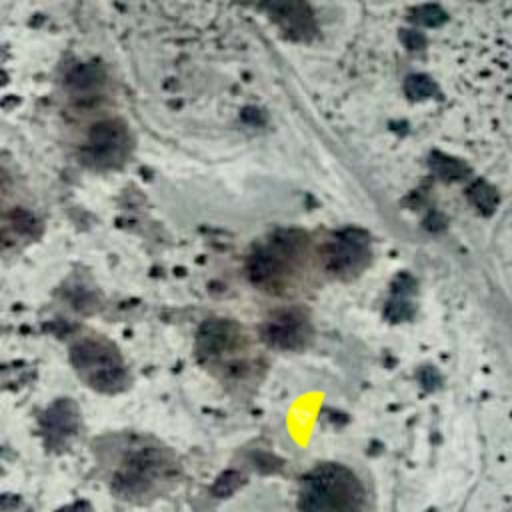semicircle: (264, 378, 340, 454)
